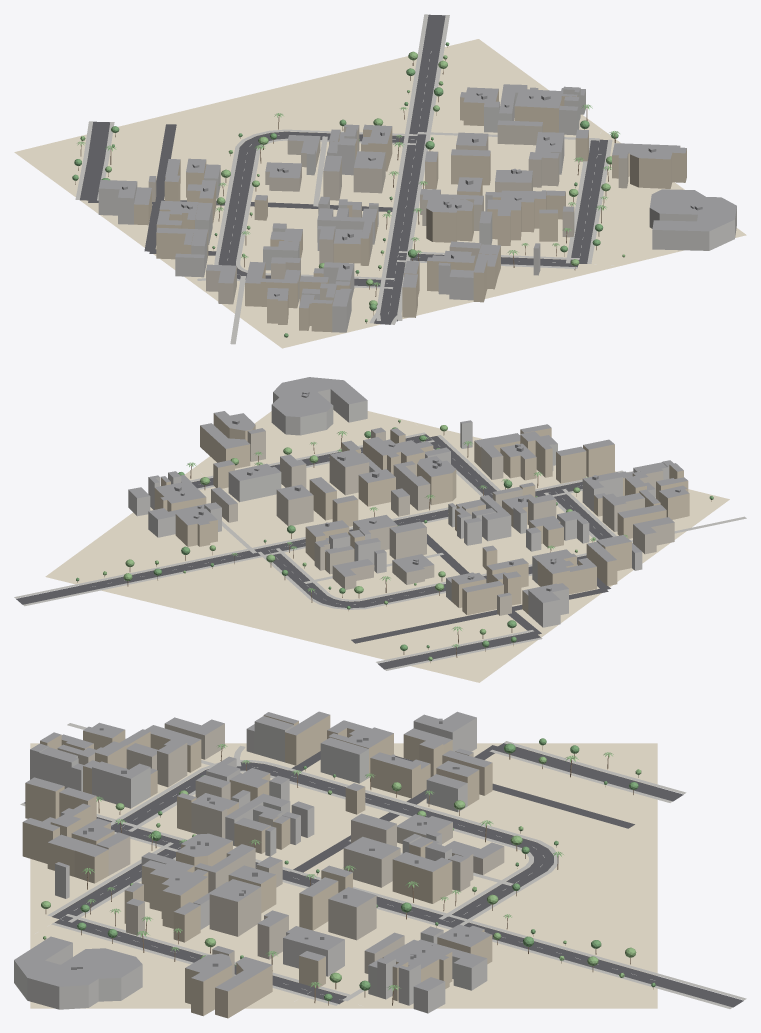
Rendered from tile_-5_-7.glb.
3 views of the same model, one above another, from view 1: azimuth 30°, elevation 25°; view 2: azimuth 150°, elevation 25°; view 3: azimuth 270°, elevation 25° (orthographic). The views are drawn at different scales.
Parts seen in each view (by area): view 1: nature_ground, buildings_roof, buildings_sandstone, roads_asphalt, buildings_concrete_light, roads_sidewalk, buildings_concrete_warm, nature_foliage_b, nature_foliage_a, nature_palm_leaf, nature_trunk; view 2: nature_ground, buildings_roof, buildings_sandstone, buildings_concrete_warm, buildings_concrete_light, roads_asphalt, roads_sidewalk, nature_foliage_b, nature_foliage_a, nature_palm_leaf; view 3: nature_ground, buildings_roof, buildings_sandstone, buildings_concrete_light, roads_asphalt, buildings_concrete_warm, roads_sidewalk, nature_foliage_a, nature_foliage_b, nature_palm_leaf, nature_trunk.
Boxes of the visible parts, <box> form: nature_ground: <box>14,39,746,348</box>; buildings_roof: <box>99,84,736,308</box>; buildings_sandstone: <box>134,89,686,332</box>; roads_asphalt: <box>80,14,607,324</box>; buildings_concrete_light: <box>98,87,736,332</box>; roads_sidewalk: <box>75,14,612,344</box>; buildings_concrete_warm: <box>148,123,628,304</box>; nature_foliage_b: <box>80,51,625,322</box>; nature_foliage_a: <box>72,42,618,337</box>; nature_palm_leaf: <box>77,104,619,286</box>; nature_trunk: <box>75,46,615,323</box>; nature_ground: <box>45,410,729,682</box>; buildings_roof: <box>128,377,689,602</box>; buildings_sandstone: <box>154,413,689,615</box>; buildings_concrete_warm: <box>211,430,674,615</box>; buildings_concrete_light: <box>128,389,669,627</box>; roads_asphalt: <box>16,434,612,669</box>; roads_sidewalk: <box>14,432,746,670</box>; nature_foliage_b: <box>103,419,595,660</box>; nature_foliage_a: <box>76,427,713,650</box>; nature_palm_leaf: <box>186,431,627,647</box>; nature_ground: <box>30,743,657,1008</box>; buildings_roof: <box>14,711,503,991</box>; buildings_sandstone: <box>22,715,492,1018</box>; buildings_concrete_light: <box>14,718,487,1013</box>; roads_asphalt: <box>24,743,743,1007</box>; buildings_concrete_warm: <box>57,723,504,976</box>; roads_sidewalk: <box>20,723,746,1008</box>; nature_foliage_a: <box>77,738,655,1000</box>; nature_foliage_b: <box>41,756,641,982</box>; nature_palm_leaf: <box>82,744,613,991</box>; nature_trunk: <box>45,745,653,1005</box>.
Size of the model in its own units: 278 by 17.24 by 292.
